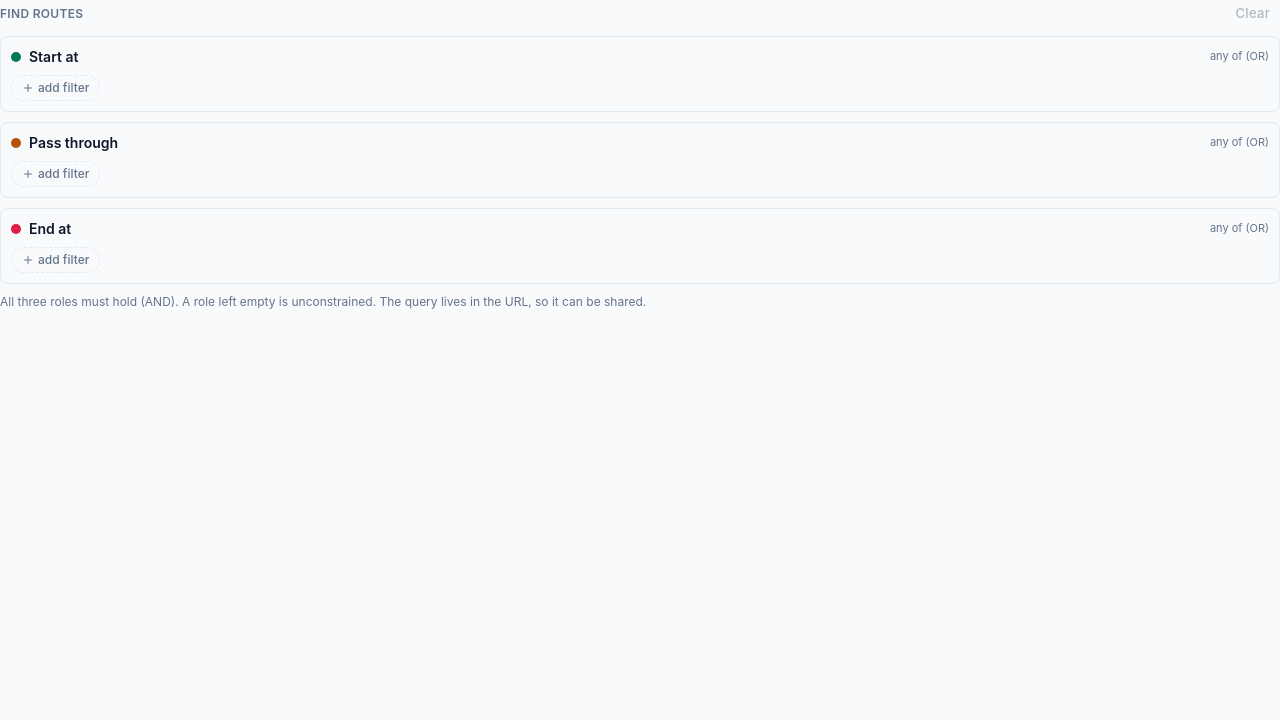
Scenario: RouteQueryPanel › writes a chosen filter to the URL, one role at a time
Click the button named "Add filter to \"Start at\"": (56, 88) [11,75,100,101]
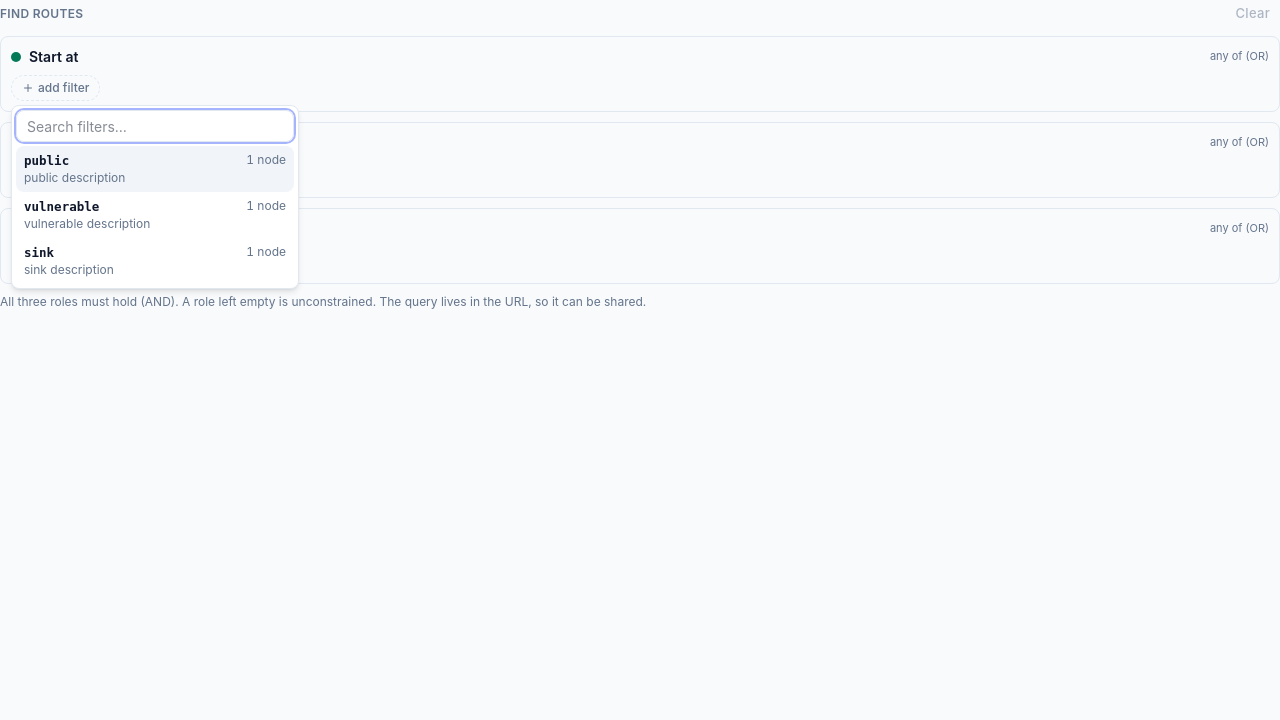
Click the option "public public description 1 node": (47, 160) [16,146,294,192]
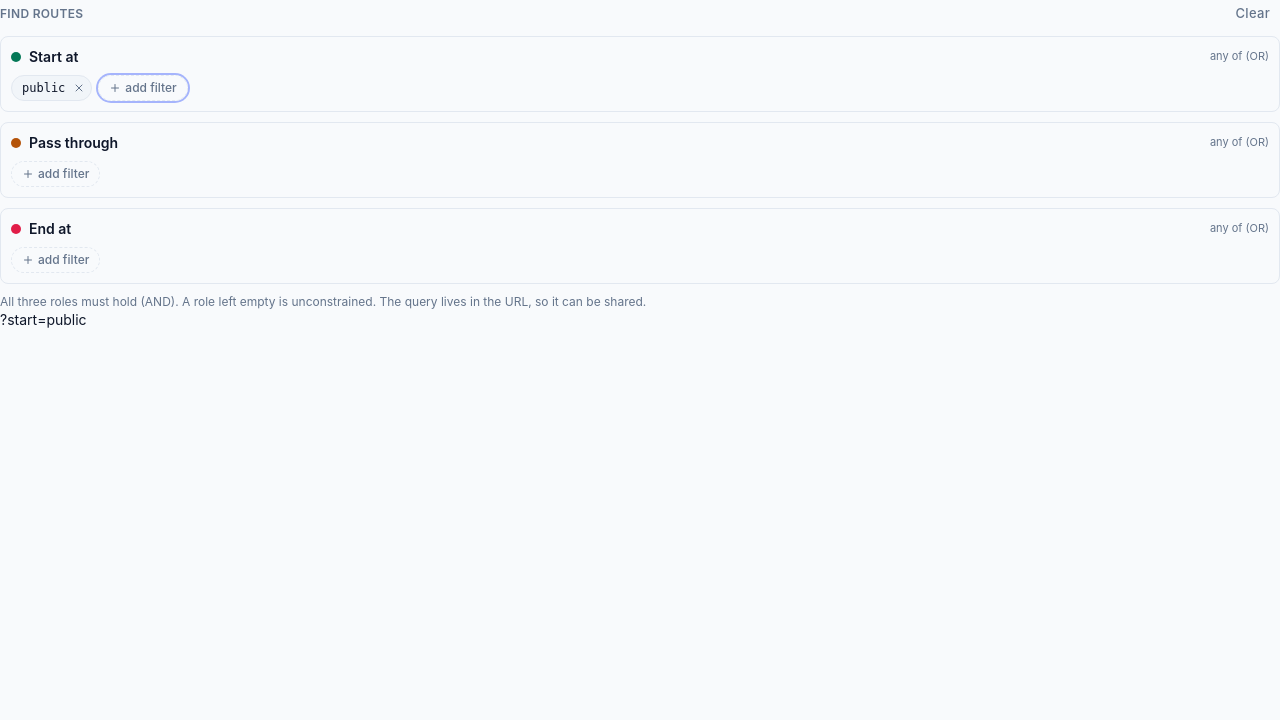
Expected: the text named "url-search" reads "?start=public", [0,311,87,328]
Click the button named "Add filter to \"End at\"": (56, 260) [11,247,100,273]
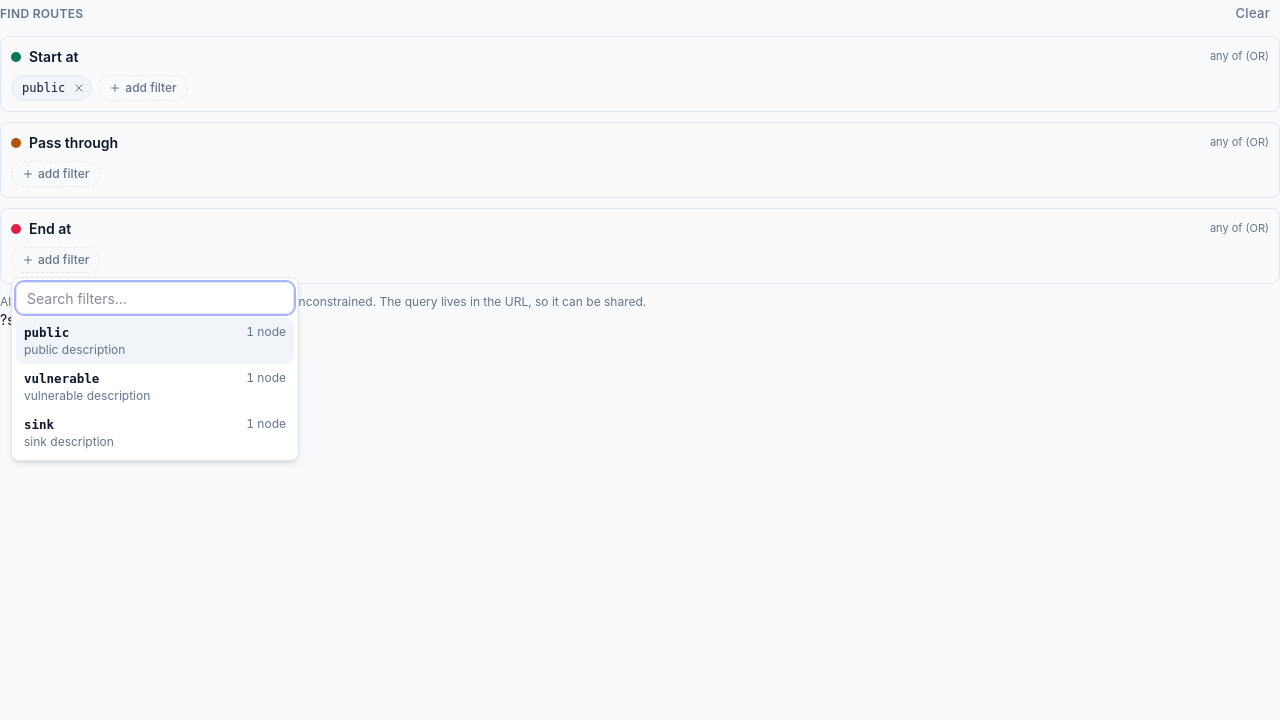
Click the option "sink sink description 1 node": (39, 424) [16,410,294,456]
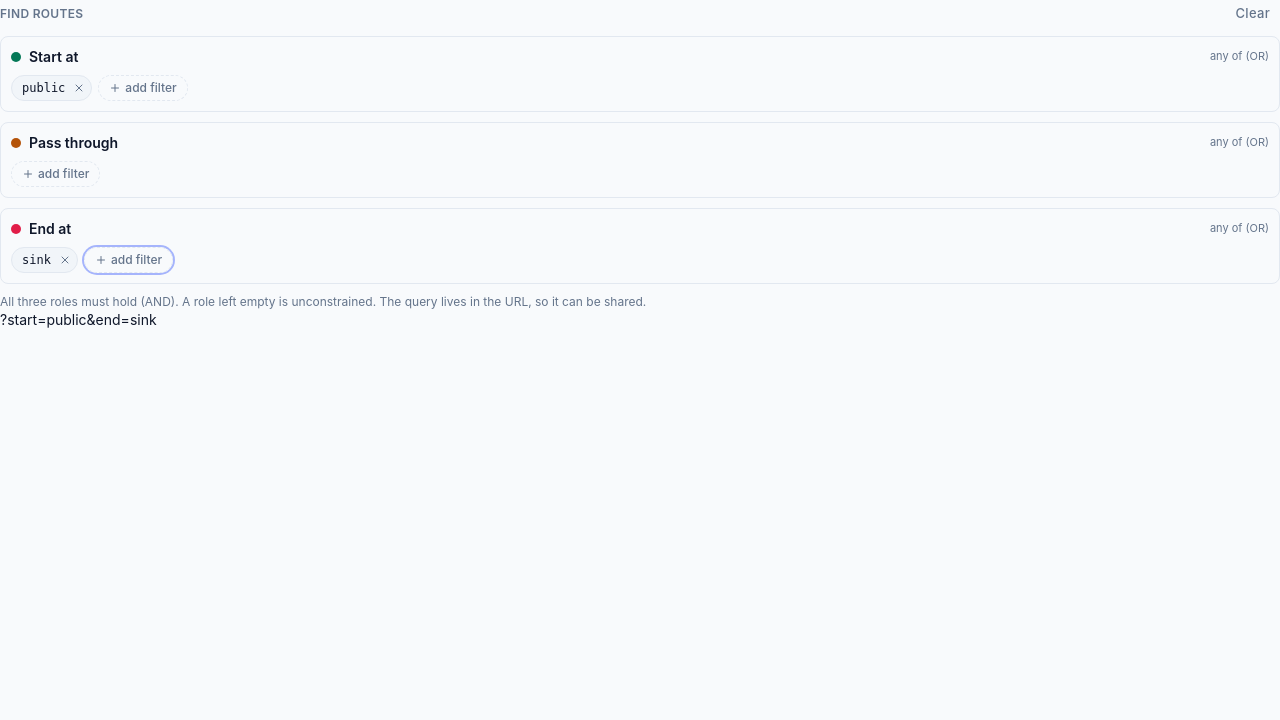
Expected: the text named "url-search" reads "?start=public&end=sink", [0,311,157,328]
